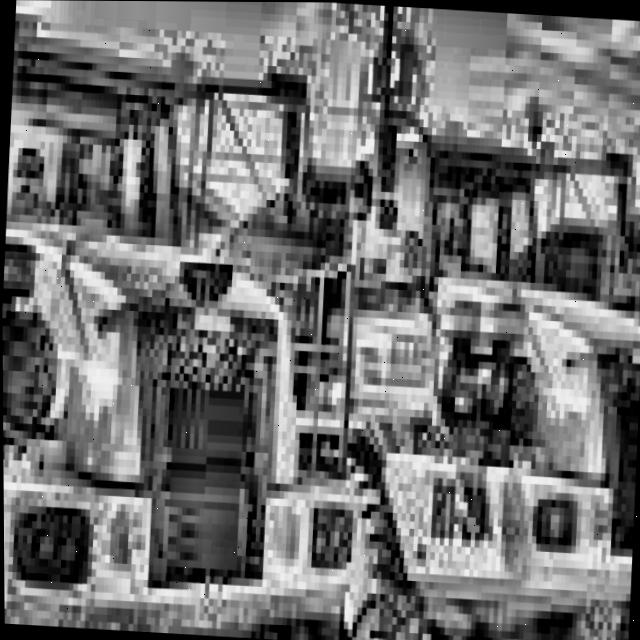dump_truck: (0, 0, 358, 640), (298, 54, 640, 640)
